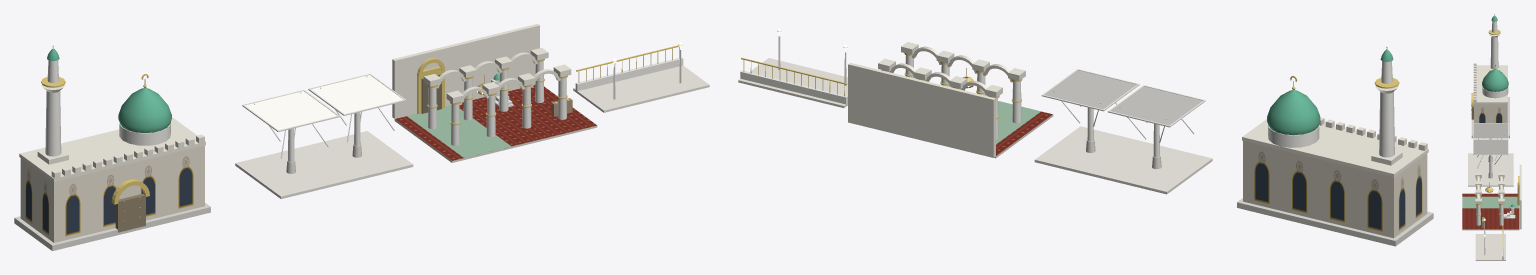
The model's file is kit-48-masjid-nabawi.glb.
3 views of the same model, side by side, from view 1: azimuth 30°, elevation 25°; view 2: azimuth 150°, elevation 25°; view 3: azimuth 270°, elevation 25° (orthographic). The views are drawn at different scales.
Visible parts, largest first — view 1: Nabawi_FasadKubahHijau, Nabawi_InteriorRawdah, Nabawi_PayungRaksasa, Nabawi_PelataranPagar; view 2: Nabawi_FasadKubahHijau, Nabawi_InteriorRawdah, Nabawi_PayungRaksasa, Nabawi_PelataranPagar; view 3: Nabawi_InteriorRawdah, Nabawi_FasadKubahHijau, Nabawi_PayungRaksasa, Nabawi_PelataranPagar.
Boxes of the visible parts, x1,y1,x2,y2 form: Nabawi_FasadKubahHijau: [14, 45, 210, 250]; Nabawi_InteriorRawdah: [392, 24, 597, 162]; Nabawi_PayungRaksasa: [235, 73, 413, 198]; Nabawi_PelataranPagar: [573, 42, 709, 112]; Nabawi_FasadKubahHijau: [1237, 46, 1433, 246]; Nabawi_InteriorRawdah: [848, 42, 1053, 158]; Nabawi_PayungRaksasa: [1034, 69, 1212, 194]; Nabawi_PelataranPagar: [738, 28, 847, 107]; Nabawi_InteriorRawdah: [1462, 164, 1521, 230]; Nabawi_FasadKubahHijau: [1471, 14, 1509, 138]; Nabawi_PayungRaksasa: [1468, 123, 1513, 186]; Nabawi_PelataranPagar: [1475, 218, 1505, 260].
Bounding box in the file's own units: 50 × 13.22 × 7.81.
Materials: 14 (2 with a texture image).
